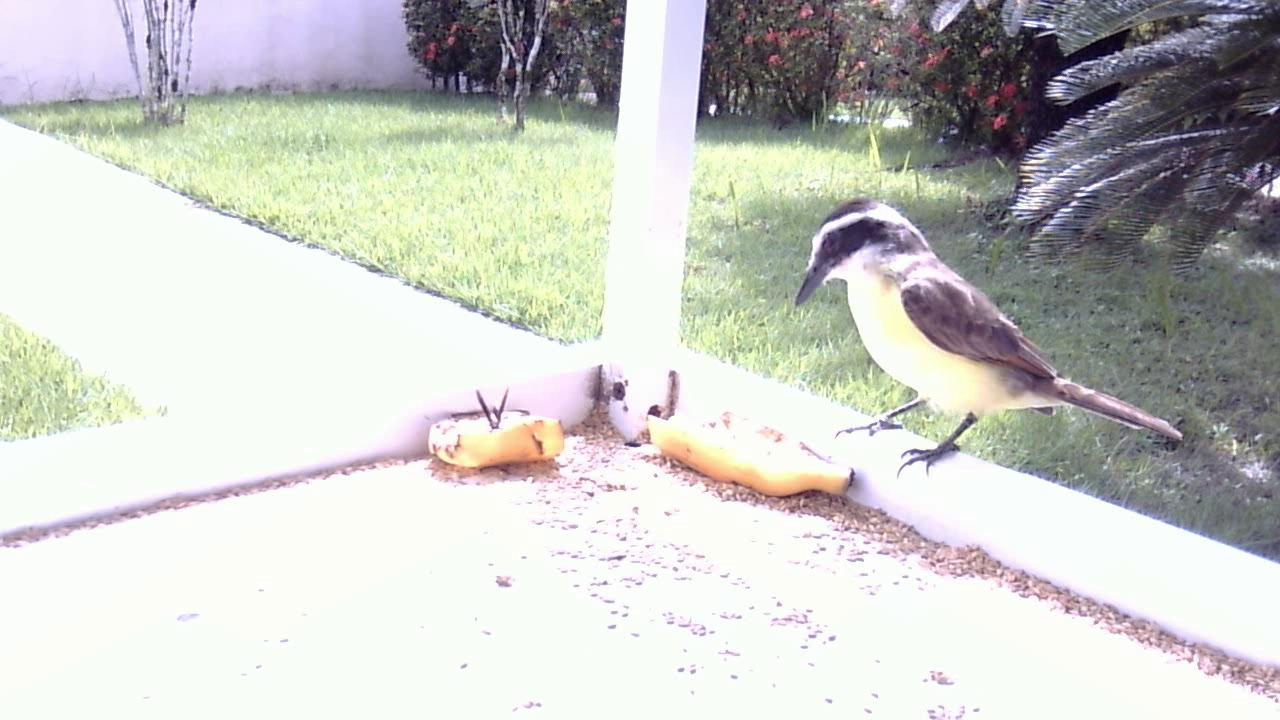bem_te_vi: (782, 180, 1194, 504)
